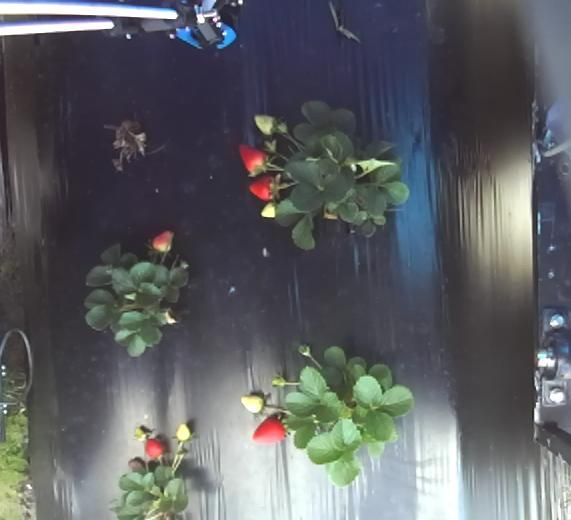mature: (251, 412, 287, 445), (237, 142, 269, 175), (247, 174, 275, 201), (150, 229, 174, 253), (143, 436, 165, 459)
